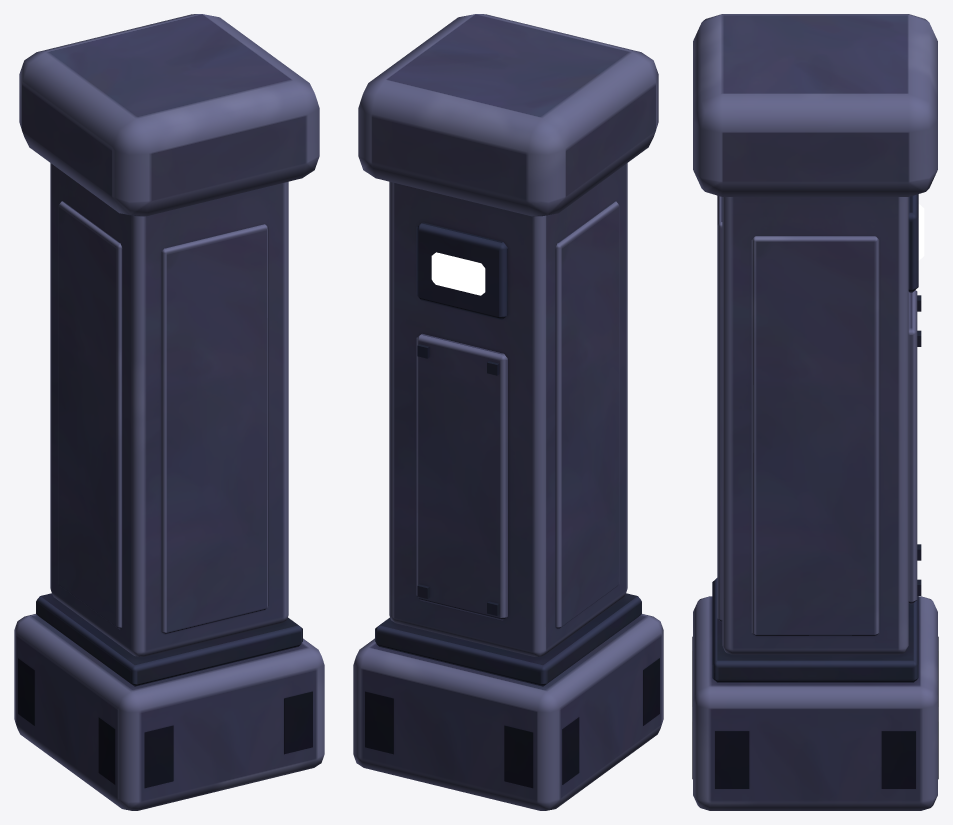
Rendered from bg_claude_service_s05_column.glb.
3 renders of one model, left to right at view 1: azimuth 30°, elevation 25°; view 2: azimuth 150°, elevation 25°; view 3: azimuth 270°, elevation 25°, orthographic. The views are drawn at different scales.
Parts seen in each view (by area): view 1: column; view 2: column; view 3: column.
Boxes of the visible parts, <box> form: column: <box>14,14,324,810</box>; column: <box>353,14,663,810</box>; column: <box>692,14,938,810</box>.
Size of the model in its own units: 0.502 by 1.6 by 0.502.
1 material, 1 textured.
